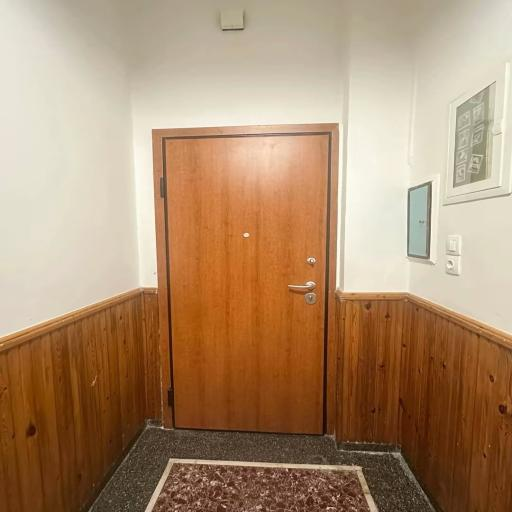child: (164, 134, 330, 434)
